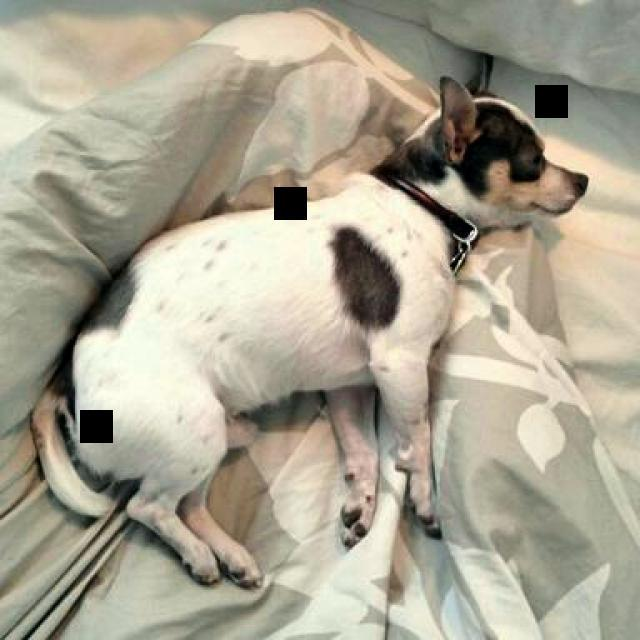adult_dog: (27, 65, 592, 598)
